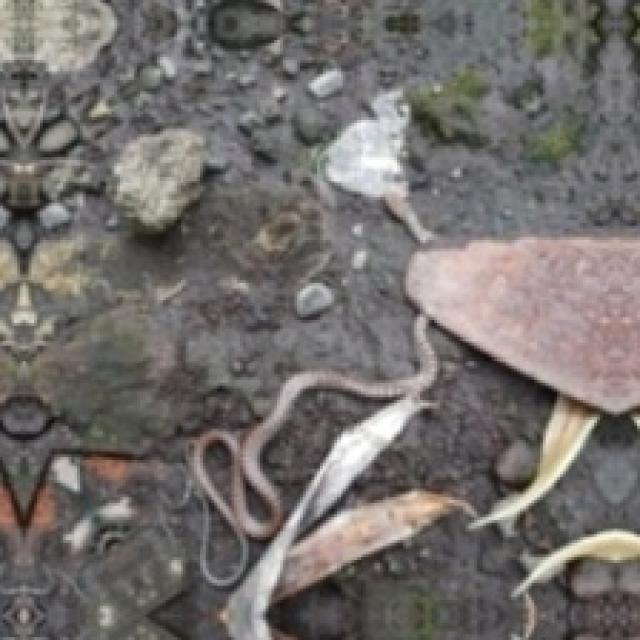paradise tree snake: (189, 315, 439, 587), (382, 181, 434, 243)
